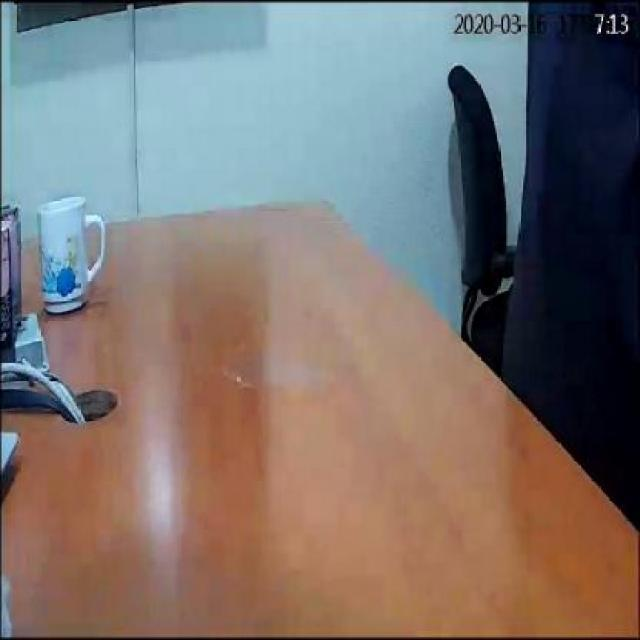spill: (216, 358, 342, 398)
